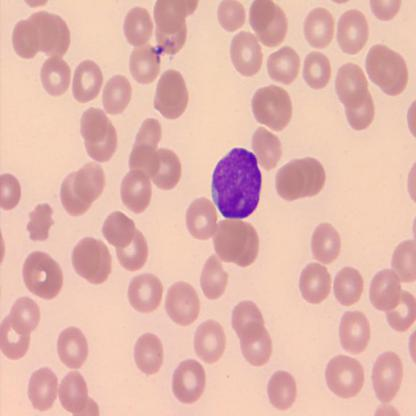Blast: (209, 145, 263, 221)
